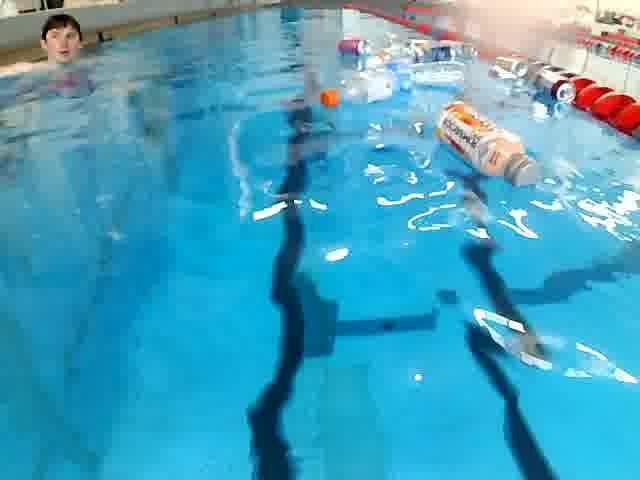Bottle: (433, 98, 548, 194), (315, 66, 405, 112)
Can: (527, 66, 582, 104), (335, 37, 376, 59)
